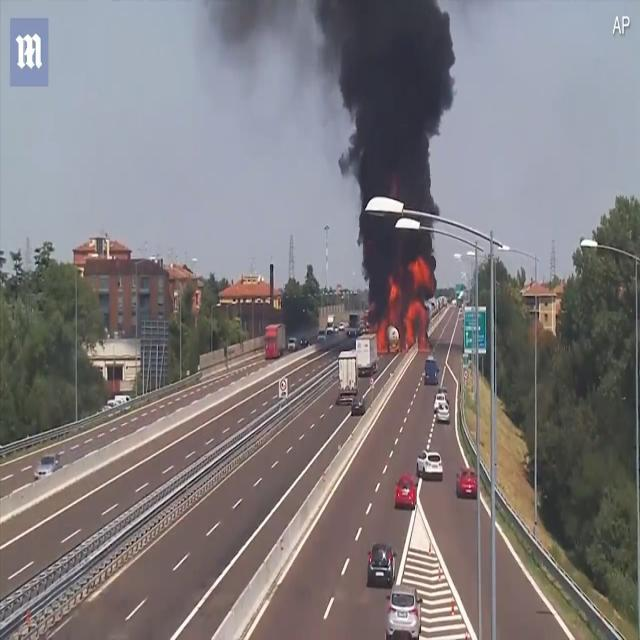Fire: (376, 256, 433, 354)
Smoke: (316, 0, 455, 324)
